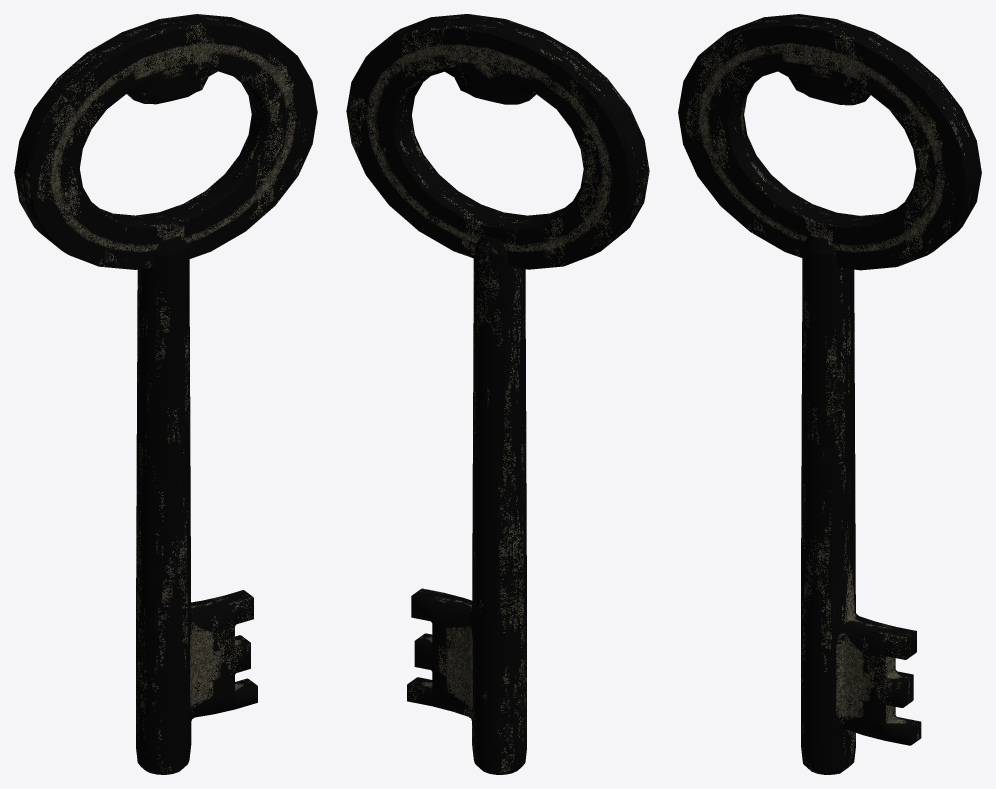
The model's file is Key.obj.
The picture shows the model from 3 angles, left to right: view 1: azimuth 30°, elevation 25°; view 2: azimuth 150°, elevation 25°; view 3: azimuth 330°, elevation 25°; orthographic projection.
Parts seen in each view (by area): view 1: Key_01_polySurface1; view 2: Key_01_polySurface1; view 3: Key_01_polySurface1.
Boxes of the visible parts, x1,y1,x2,y2 form: Key_01_polySurface1: (14,14,317,774); Key_01_polySurface1: (346,14,649,774); Key_01_polySurface1: (678,14,981,774).
Bounding box in the file's own units: 0.4655 × 1.13 × 0.0753.
Materials: 1 (1 with a texture image).
